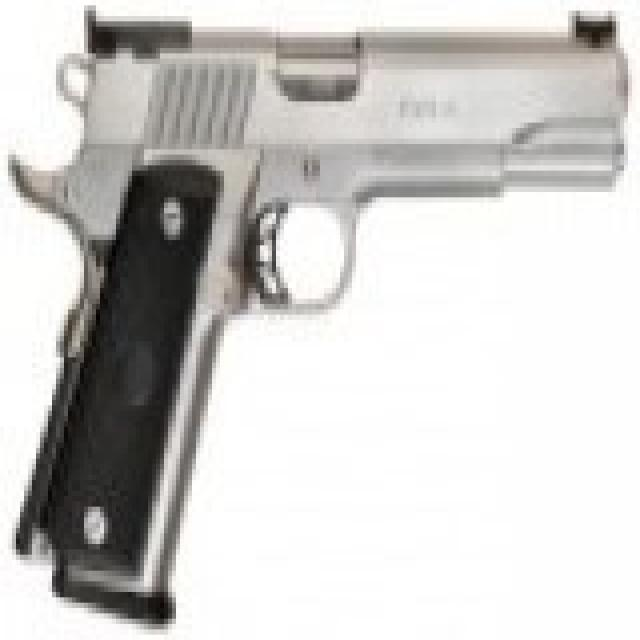Gun: (9, 11, 630, 622)
